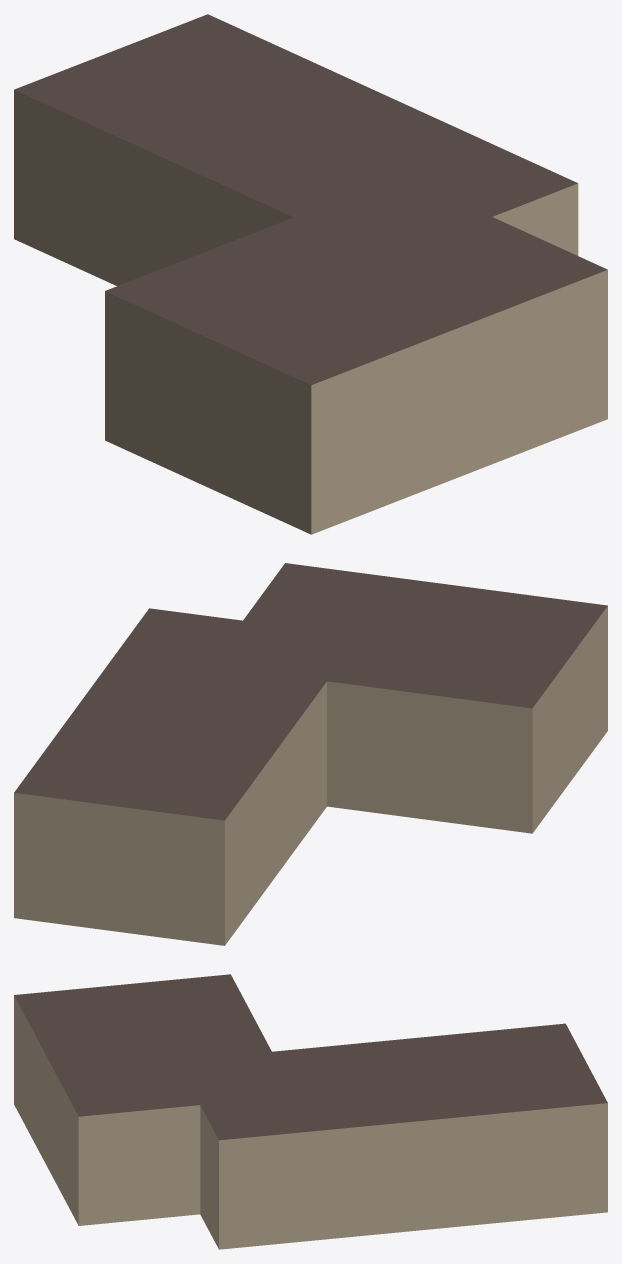
3 renders of one model, top to bottom at view 1: azimuth 30°, elevation 25°; view 2: azimuth 150°, elevation 25°; view 3: azimuth 270°, elevation 25°, orthographic. The views are drawn at different scales.
Parts seen in each view (by area): view 1: HP-w1376988675; view 2: HP-w1376988675; view 3: HP-w1376988675.
Part boxes in pixels (bbox=[...]): HP-w1376988675: bbox=[14, 14, 607, 534]; HP-w1376988675: bbox=[14, 563, 607, 945]; HP-w1376988675: bbox=[14, 974, 607, 1249].
Bounding box in the file's own units: 29.32 × 9 × 44.32.
